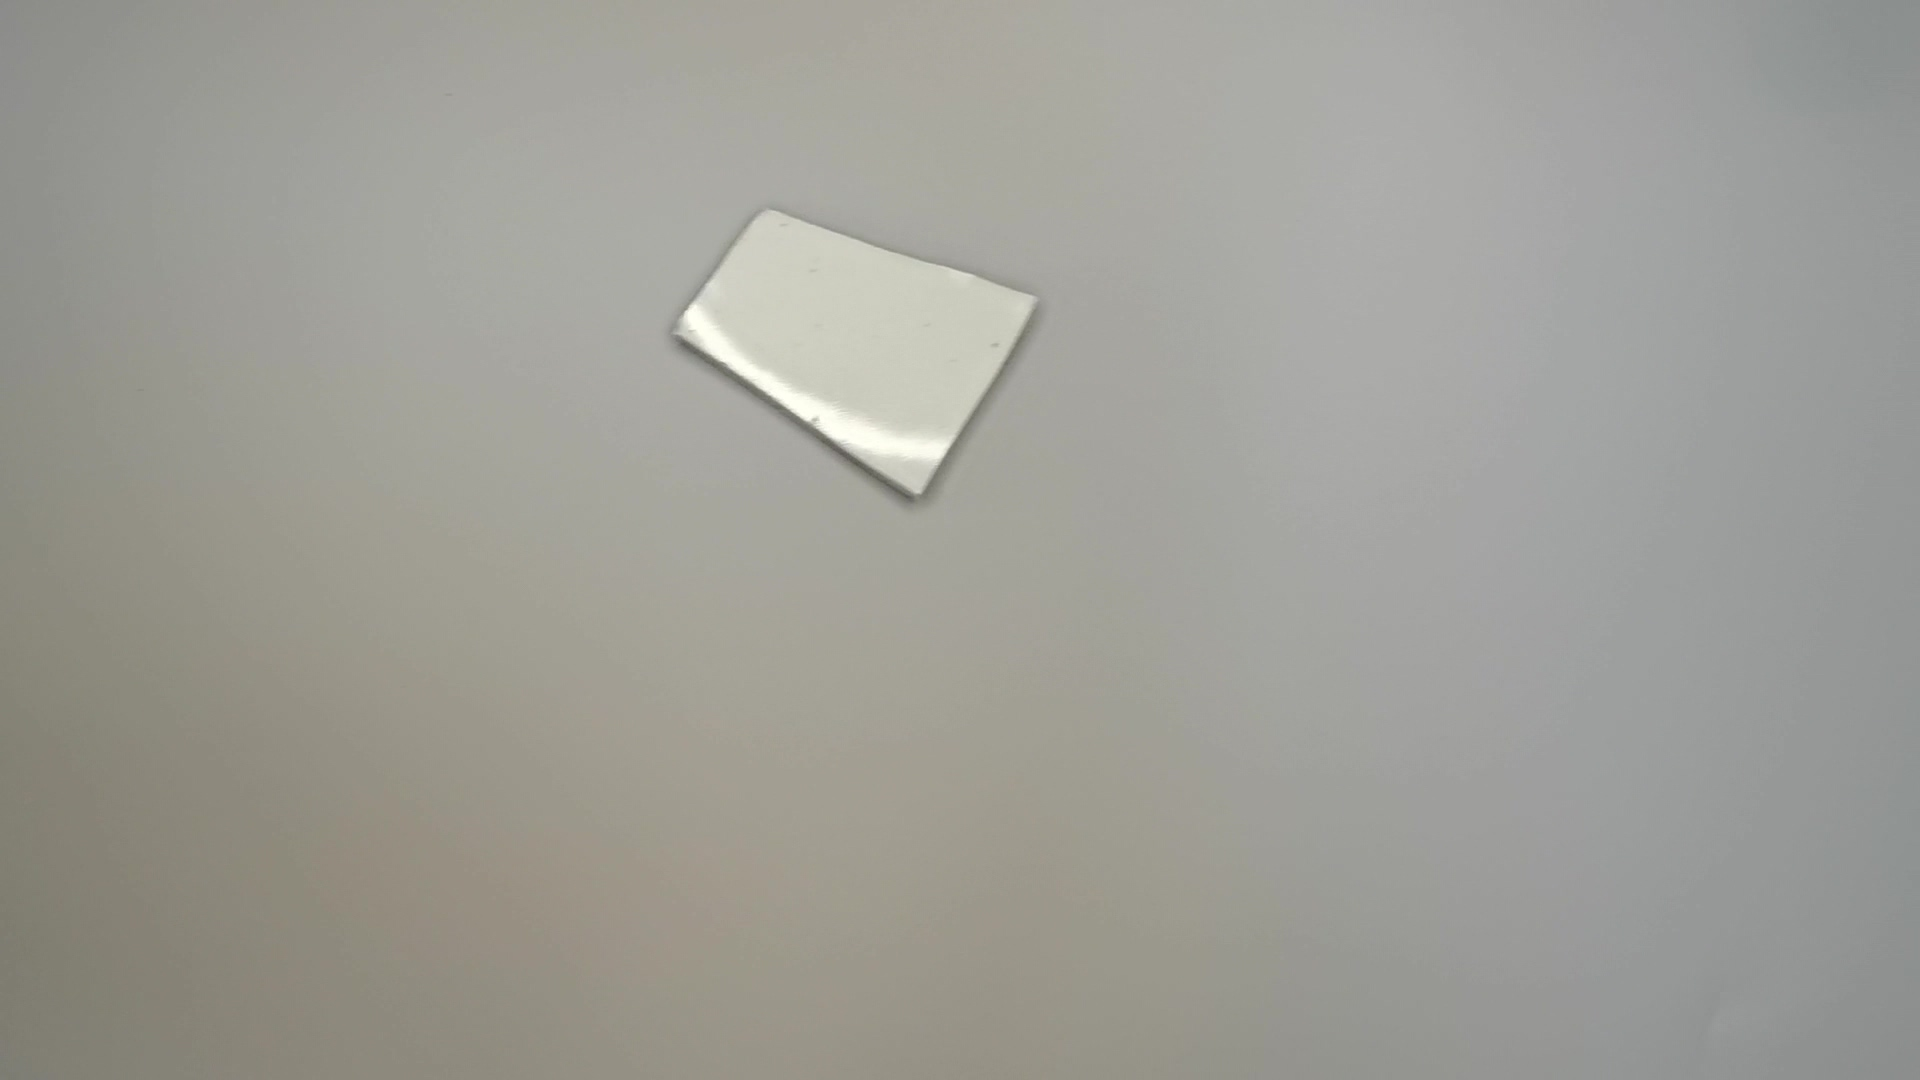ceramic: (662, 208, 1047, 509)
